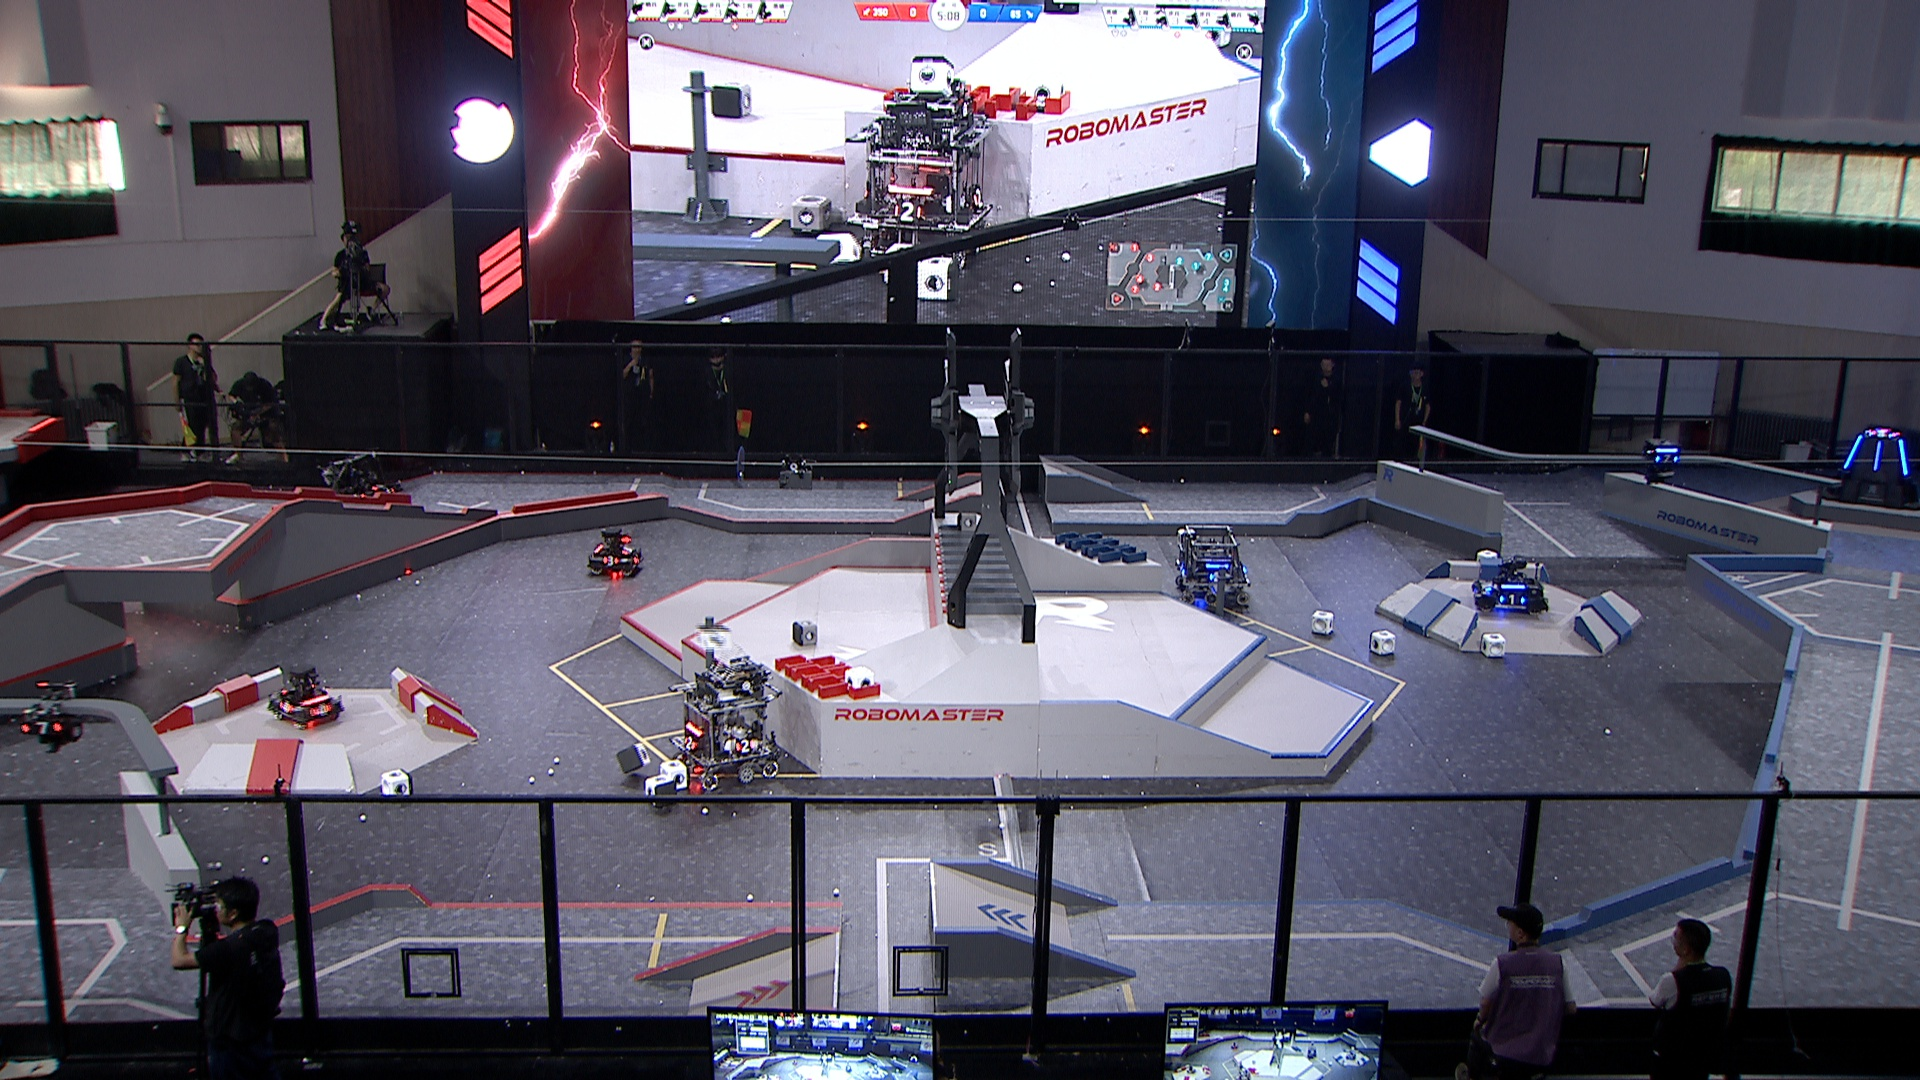armor: (1841, 434, 1863, 472), (16, 719, 65, 736), (1896, 436, 1909, 476), (309, 702, 334, 717), (733, 737, 756, 754), (1498, 593, 1527, 607), (1871, 440, 1883, 472), (1654, 454, 1681, 465), (277, 700, 294, 716), (683, 733, 698, 752), (1207, 570, 1221, 585), (600, 555, 618, 567), (621, 543, 633, 556), (368, 483, 385, 491), (384, 485, 398, 495)
base: (1820, 425, 1920, 512)
car: (667, 655, 785, 793), (1174, 522, 1254, 608), (262, 665, 348, 727), (1470, 555, 1553, 617), (320, 450, 404, 509), (585, 524, 645, 575)
ignore: (841, 88, 994, 264), (1869, 429, 1894, 439)
watcher: (11, 680, 83, 752), (1638, 438, 1683, 488)
